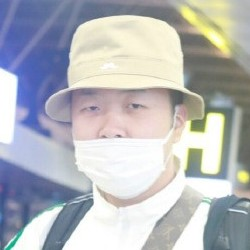mask: (59, 129, 174, 199)
